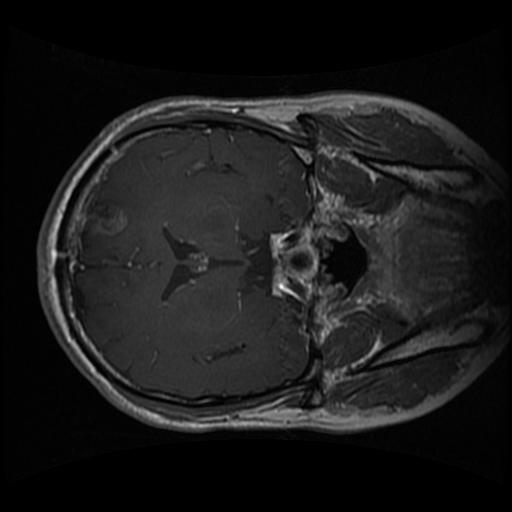glioma: (80, 197, 133, 240)
